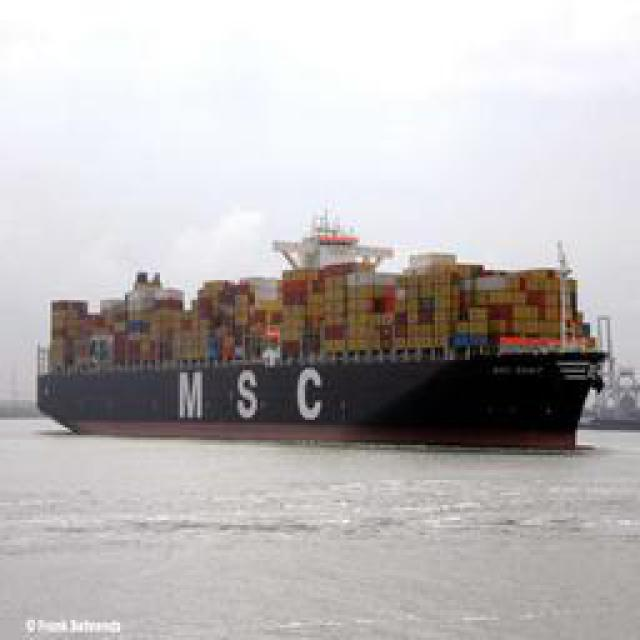Ship: (44, 197, 617, 445)
